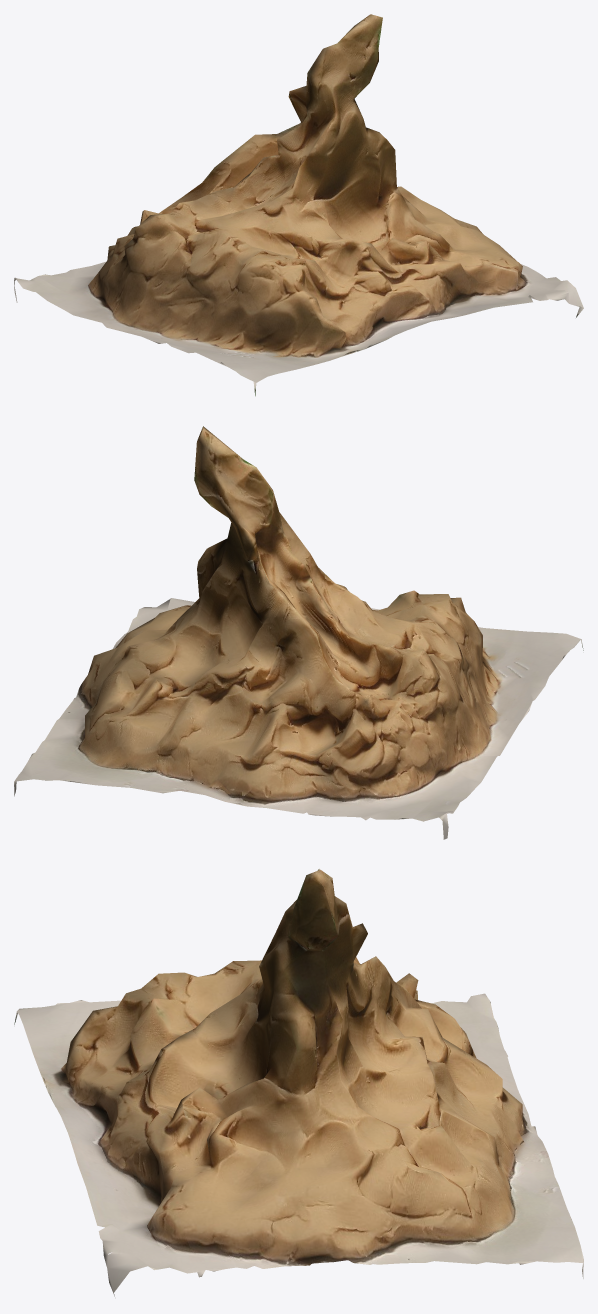
The model's file is GPGre_MamanLOD17.fbx.
3 views of the same model, one above another, from view 1: azimuth 30°, elevation 25°; view 2: azimuth 150°, elevation 25°; view 3: azimuth 270°, elevation 25° (orthographic). The views are drawn at different scales.
Parts seen in each view (by area): view 1: Model; view 2: Model; view 3: Model.
Part boxes in pixels (left/top/right/bottom): Model: left=14, top=14, right=583, bottom=396; Model: left=14, top=426, right=583, bottom=839; Model: left=14, top=869, right=583, bottom=1296.
Bounding box in the file's own units: 2.35 × 1.51 × 2.14.
